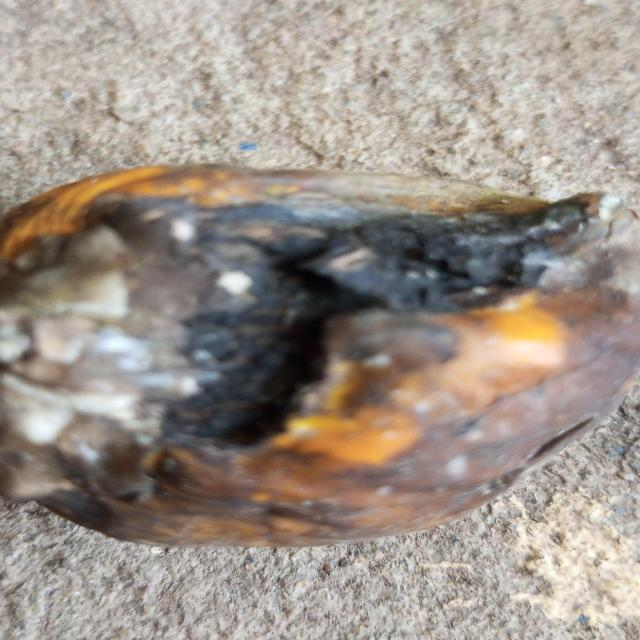damaged: (0, 163, 640, 553)
